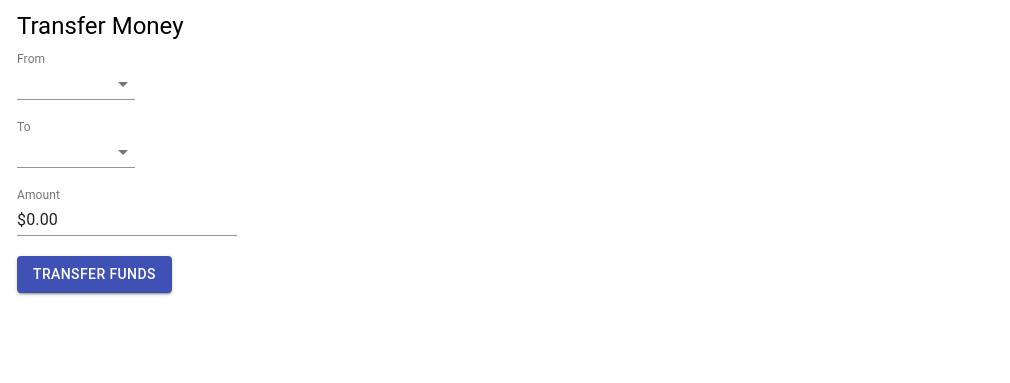
Test: <TransferPage /> › should error out if account from not set
Select "Example2 - 2" in the dropdown labelled "To" at [76, 152], box [17,136,135,168]
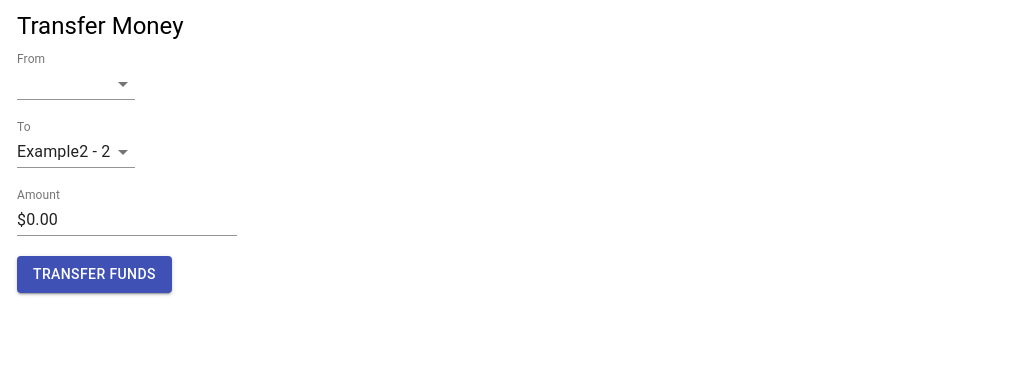
Replace the text in the field labelled "Amount" with "600.54" at [127, 220], box [17,204,237,236]
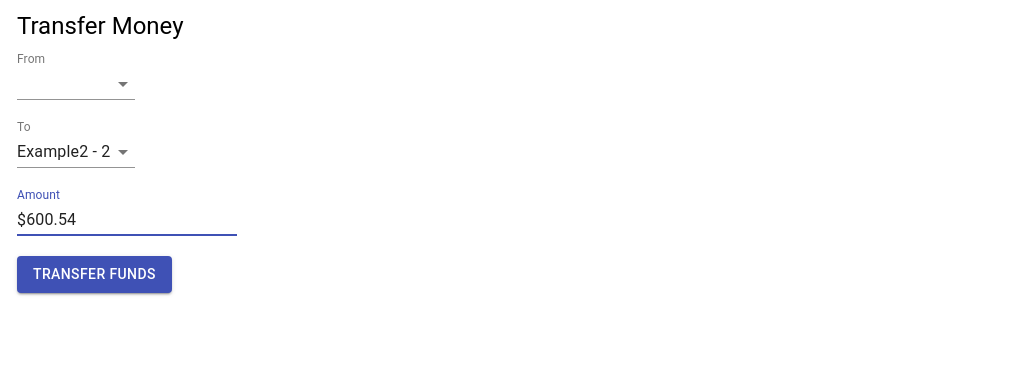
Click the button with test id "start-transfer-button" at [94, 274], box [17,256,172,292]
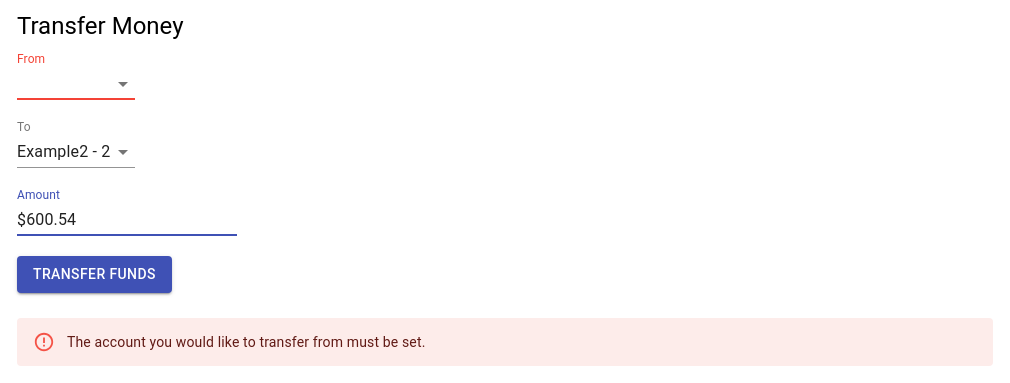
Check: the text "The account you would like to transfer from must be set." is shown, box [67,334,426,350]
